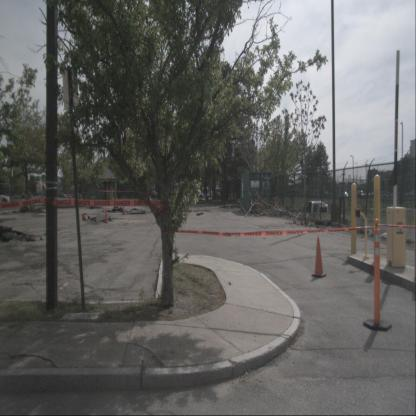movable_object-trafficcone: (363, 218, 392, 332), (312, 236, 326, 278), (104, 208, 109, 223), (82, 212, 88, 222), (123, 200, 126, 215)
vehicle-car: (383, 191, 393, 199), (357, 190, 366, 198)
